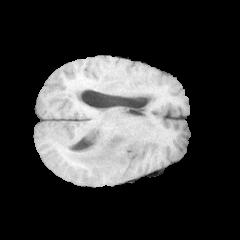glioma: (67, 125, 138, 172)
